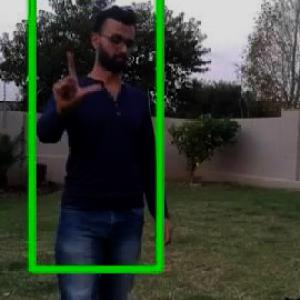land_hand: (41, 38, 102, 114)
